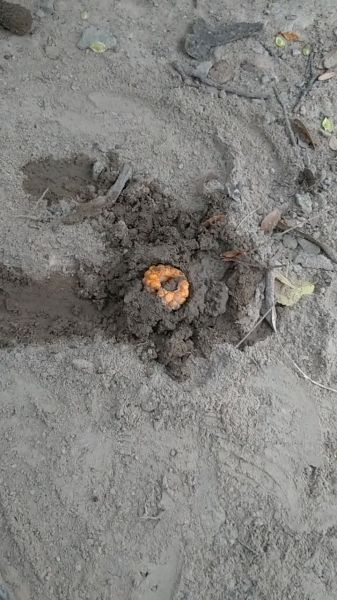eggs: (136, 248, 198, 317)
